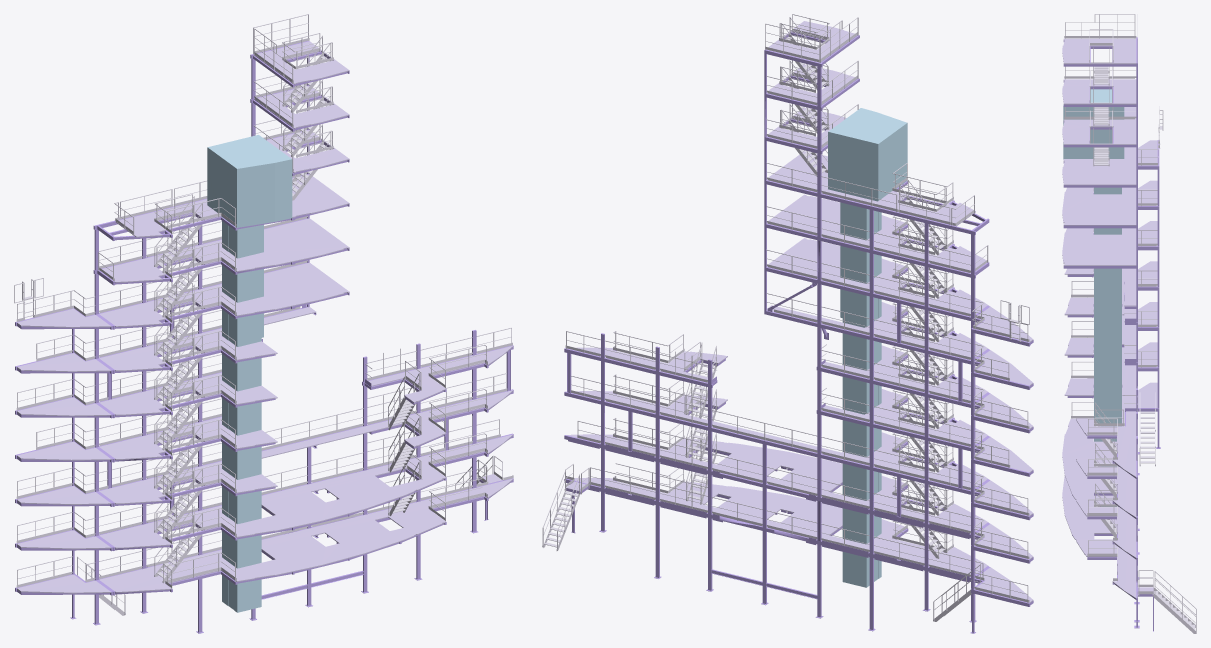
The model's file is HO-Side-A-Platforms-cut4.glb.
3 renders of one model, left to right at view 1: azimuth 30°, elevation 25°; view 2: azimuth 150°, elevation 25°; view 3: azimuth 270°, elevation 25°, orthographic. The views are drawn at different scales.
Parts seen in each view (by area): view 1: _0000011FC9D9CF70_IndexedFaceSet, _0000011F86E3EF30_IndexedFaceSet, _0000011FC9D9D210_IndexedFaceSet, _0000011FC9D9D4B0_IndexedFaceSet; view 2: _0000011FC9D9CF70_IndexedFaceSet, _0000011F86E3EF30_IndexedFaceSet, _0000011FC9D9D210_IndexedFaceSet, _0000011FC9D9D4B0_IndexedFaceSet; view 3: _0000011FC9D9CF70_IndexedFaceSet, _0000011F86E3EF30_IndexedFaceSet, _0000011FC9D9D4B0_IndexedFaceSet, _0000011FC9D9D210_IndexedFaceSet.
Part boxes in pixels (x1,y1,x2,y2): _0000011FC9D9CF70_IndexedFaceSet: [17, 41, 512, 593]; _0000011F86E3EF30_IndexedFaceSet: [14, 14, 513, 615]; _0000011FC9D9D210_IndexedFaceSet: [15, 41, 513, 633]; _0000011FC9D9D4B0_IndexedFaceSet: [207, 135, 292, 612]; _0000011FC9D9CF70_IndexedFaceSet: [566, 21, 1033, 602]; _0000011F86E3EF30_IndexedFaceSet: [542, 14, 1029, 621]; _0000011FC9D9D210_IndexedFaceSet: [564, 32, 1033, 633]; _0000011FC9D9D4B0_IndexedFaceSet: [828, 108, 907, 587]; _0000011FC9D9CF70_IndexedFaceSet: [1062, 38, 1157, 598]; _0000011F86E3EF30_IndexedFaceSet: [1064, 14, 1196, 633]; _0000011FC9D9D4B0_IndexedFaceSet: [1063, 89, 1124, 506]; _0000011FC9D9D210_IndexedFaceSet: [1063, 37, 1160, 631].
Size of the model in its own units: 28.74 by 33.4 by 7.56.
